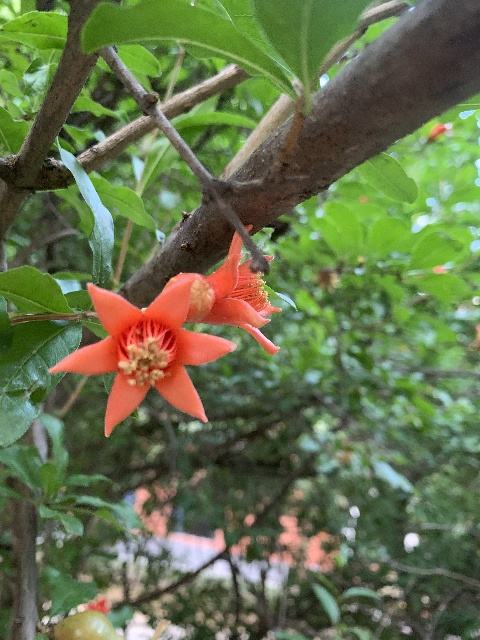bud: (162, 273, 216, 323)
flower: (49, 277, 237, 436), (201, 226, 282, 355)
